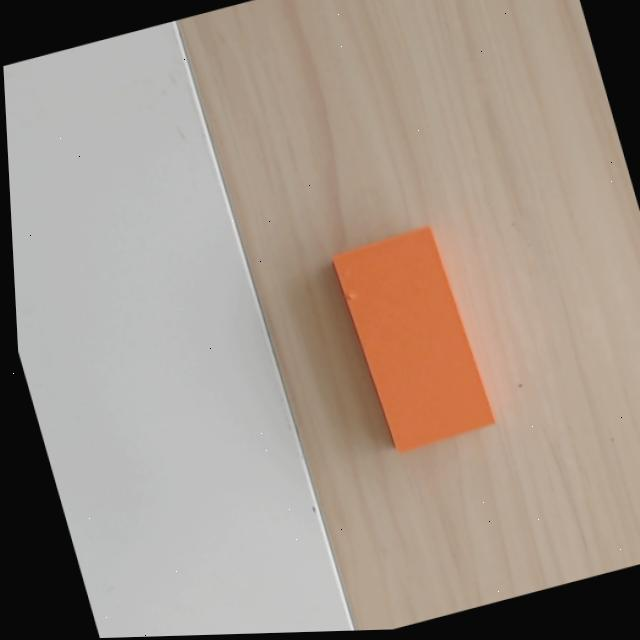Balok-Jingga-1005025: (330, 224, 495, 457)
